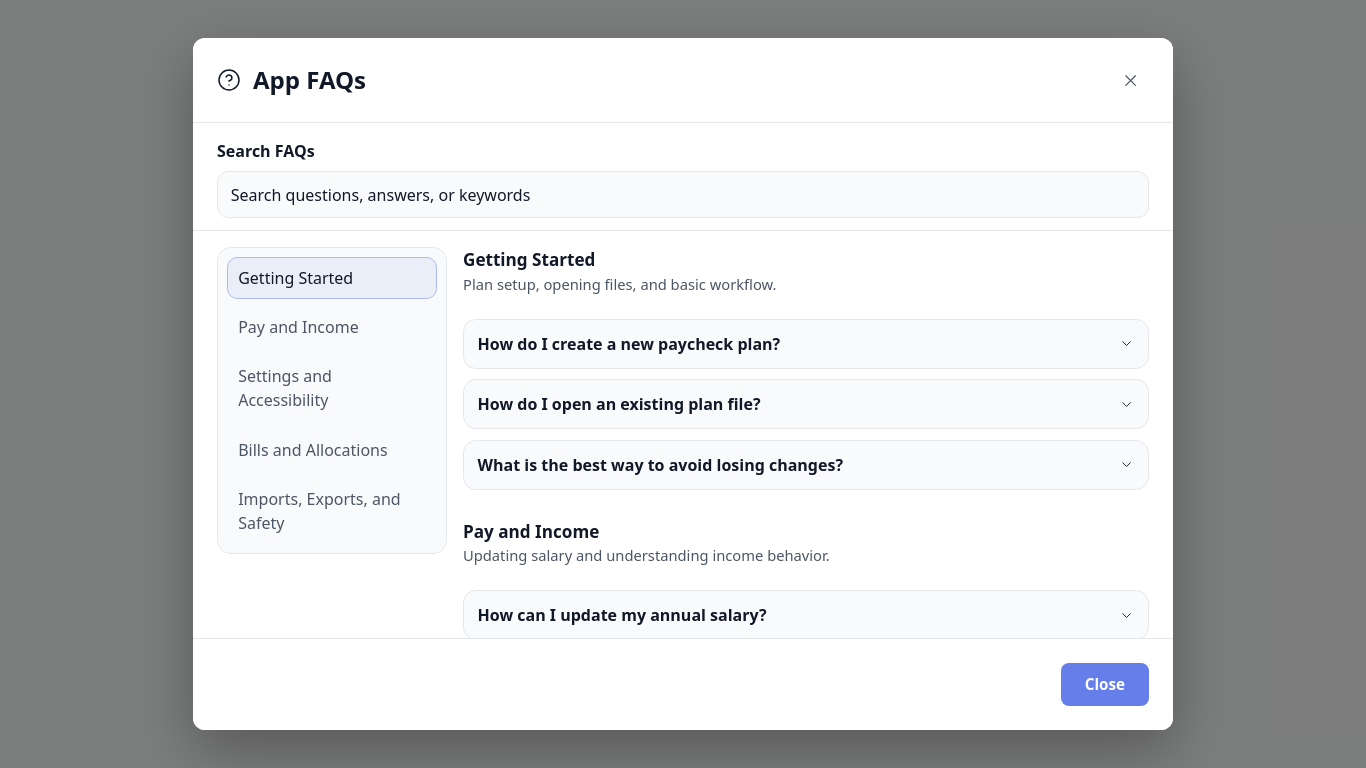
Test: AppFaqModal › shows an empty state when search has no matches
This screenshot has width=1366, height=768.
In the search field labelled "Search FAQs": (683, 195) x1=217 y1=171 x2=1149 y2=218, type "zebra astronaut"
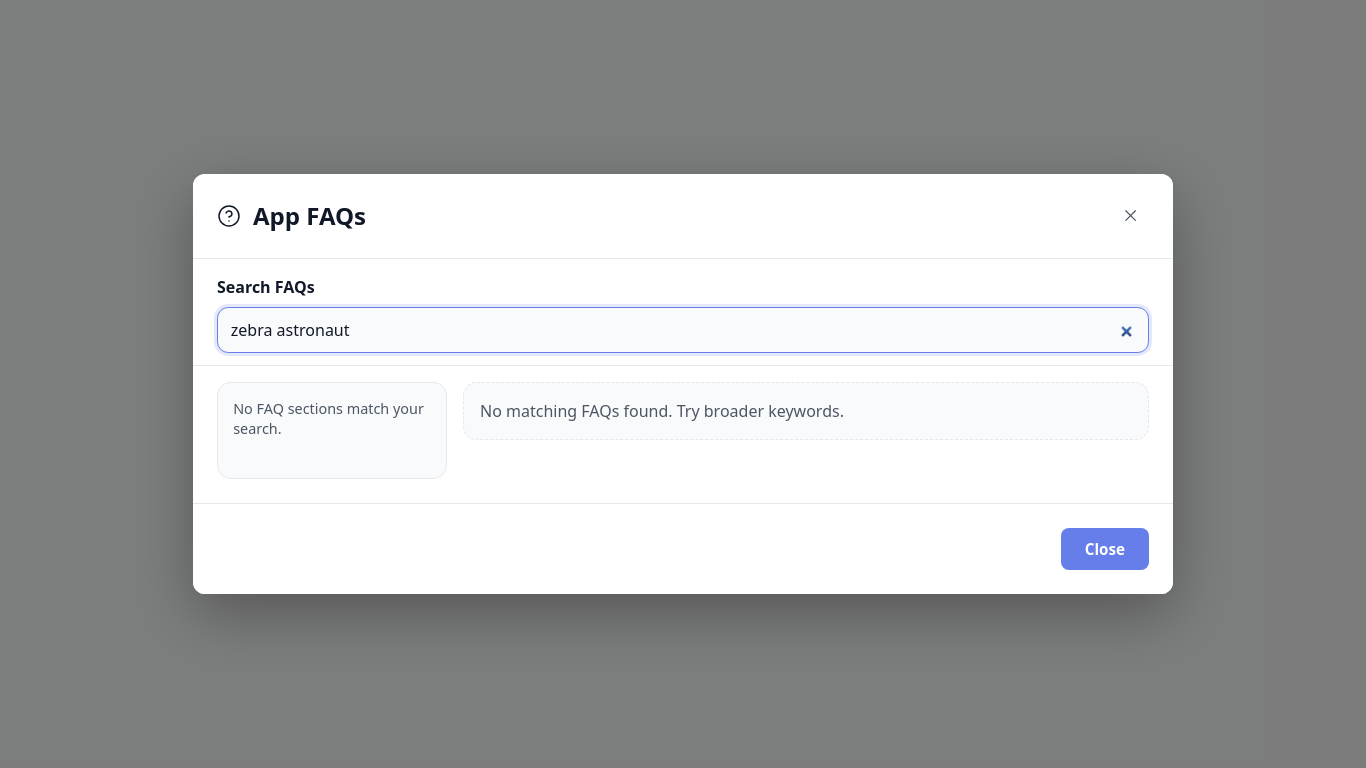
Now the text "No FAQ sections match your search." is shown, box x1=227 y1=392 x2=437 y2=445
Now the message reads "No matching FAQs found. Try broader keywords.", box x1=480 y1=400 x2=844 y2=422
